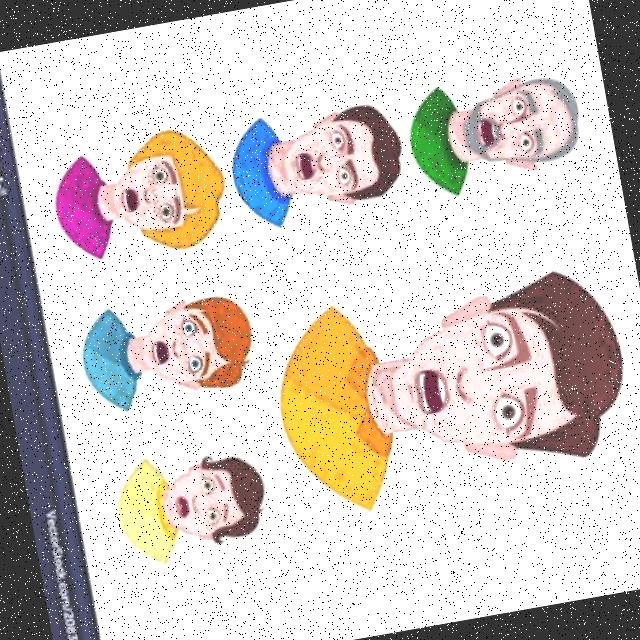surprised: (338, 248, 620, 511), (397, 51, 590, 196), (231, 79, 409, 232), (73, 119, 218, 269), (127, 275, 257, 405), (143, 431, 270, 560)
